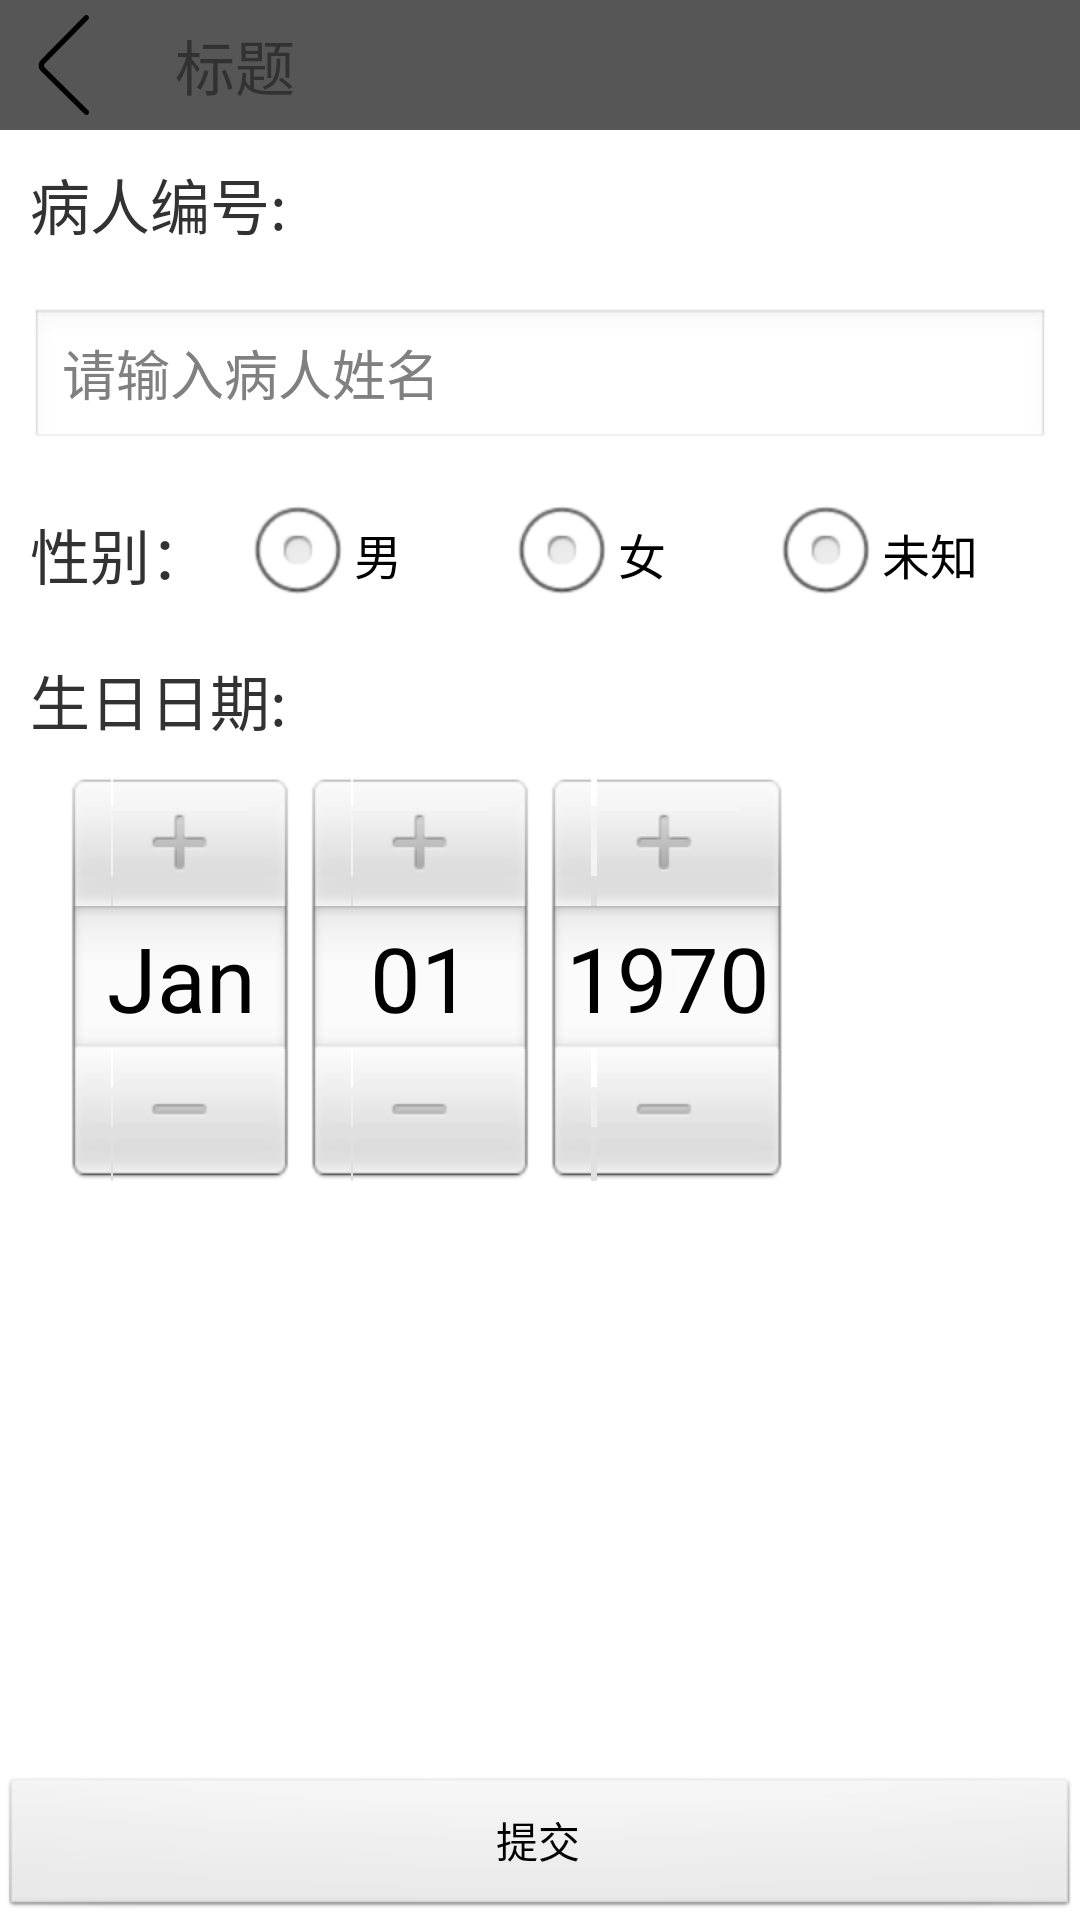

Where to tap for icons on this 1080w x 1920h app screen, as point (x, y):
pre activity: point (64, 65)
